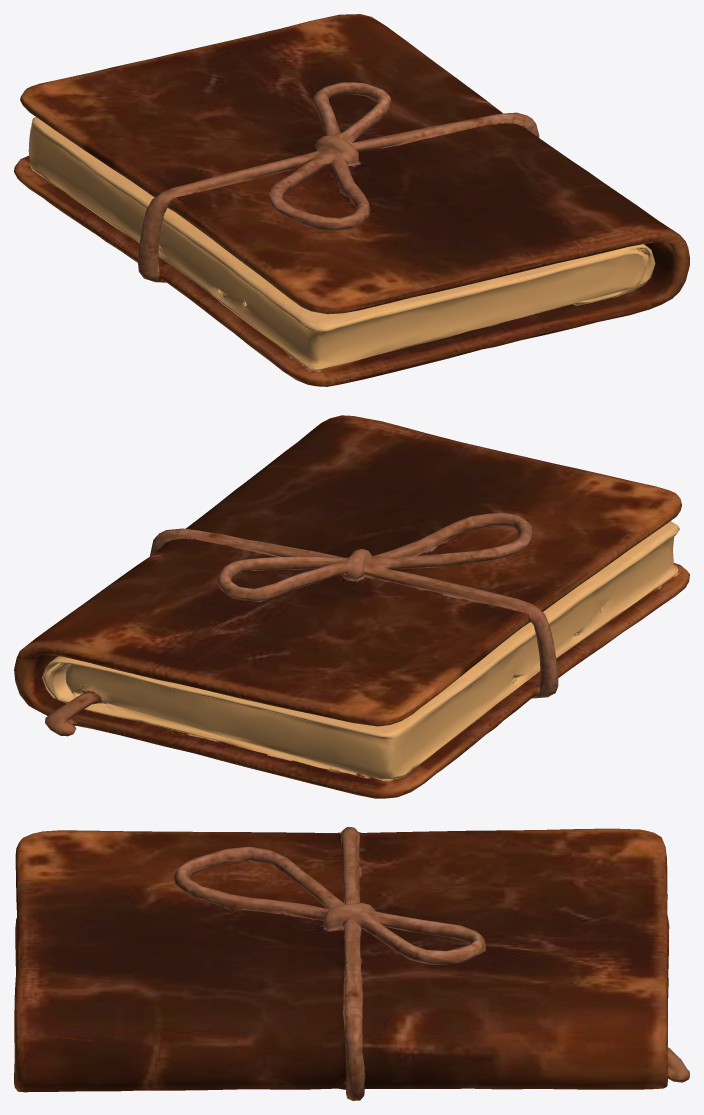
Rendered from libreta.glb.
3 views of the same model, one above another, from view 1: azimuth 30°, elevation 25°; view 2: azimuth 150°, elevation 25°; view 3: azimuth 270°, elevation 25° (orthographic). The views are drawn at different scales.
Visible parts, largest first — view 1: geometry_0; view 2: geometry_0; view 3: geometry_0.
Boxes of the visible parts, x1=… form: geometry_0: x1=14, y1=14, x2=689, y2=386; geometry_0: x1=14, y1=415, x2=689, y2=798; geometry_0: x1=14, y1=827, x2=689, y2=1100.
Size of the model in its own units: 0.16 by 0.04 by 0.22.
1 material, 1 textured.
